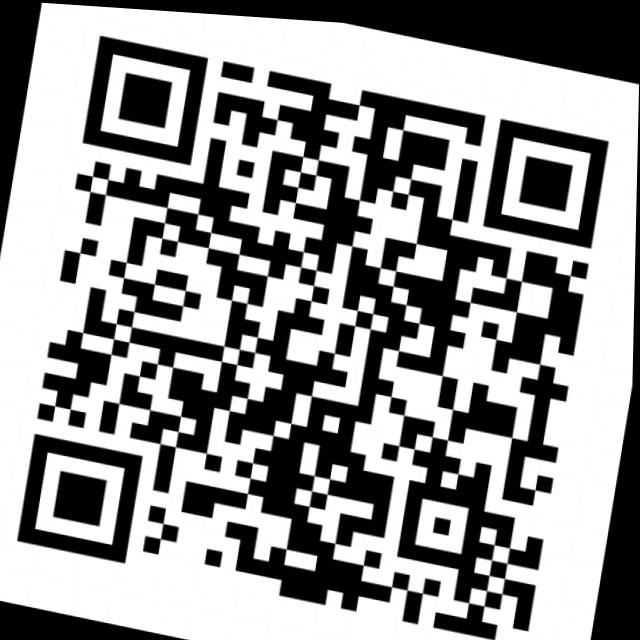QR_CODE: (0, 11, 631, 640)
